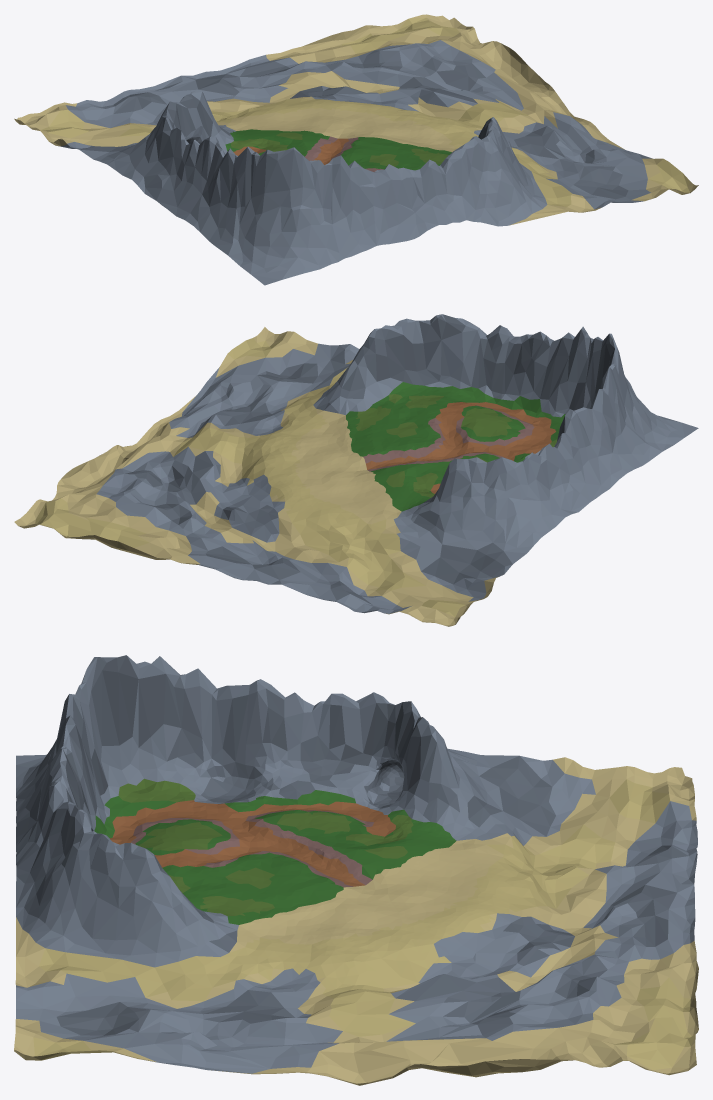
Rendered from Island.fbx.
3 views of the same model, one above another, from view 1: azimuth 30°, elevation 25°; view 2: azimuth 150°, elevation 25°; view 3: azimuth 270°, elevation 25° (orthographic). The views are drawn at different scales.
Visible parts, largest first — view 1: Island; view 2: Island; view 3: Island.
Boxes of the visible parts, bbox=[...] form: Island: bbox=[14, 14, 698, 285]; Island: bbox=[14, 314, 698, 626]; Island: bbox=[14, 655, 698, 1085].
Bounding box in the file's own units: 102396 × 29612 × 101023.
